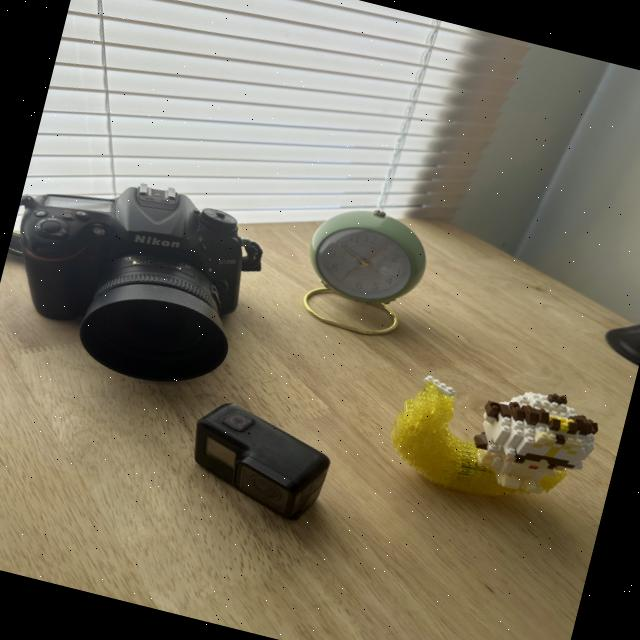actioncam: (164, 374, 370, 536)
camera: (0, 142, 299, 420)
clock: (258, 185, 456, 363)
toy: (369, 331, 630, 535)
